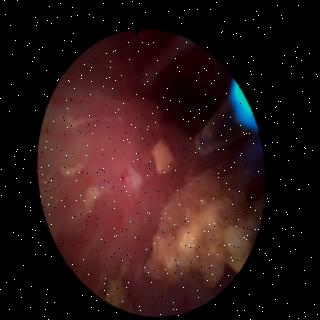fiber: (231, 77, 259, 126)
stone: (150, 169, 263, 282), (109, 276, 136, 308), (153, 137, 177, 171), (86, 184, 100, 203)
